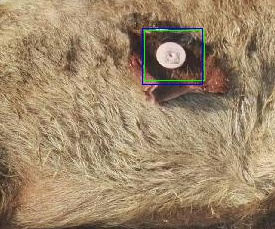text: (144, 30, 204, 80)
